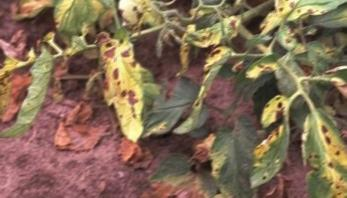Tomato Early blight leaf: (295, 106, 347, 198), (246, 96, 300, 184), (102, 33, 141, 138), (250, 0, 347, 42), (176, 49, 230, 121)
